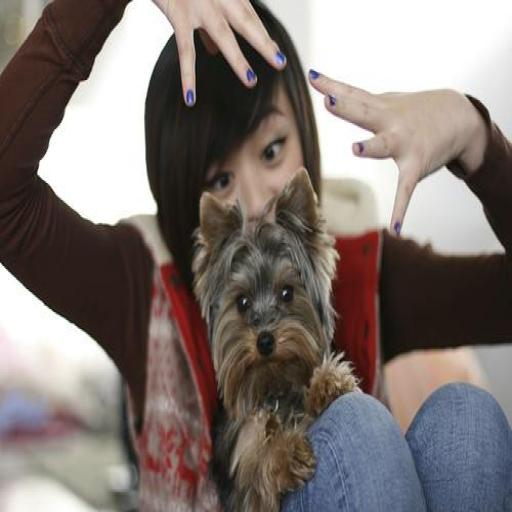dog_face: (199, 184, 329, 402)
